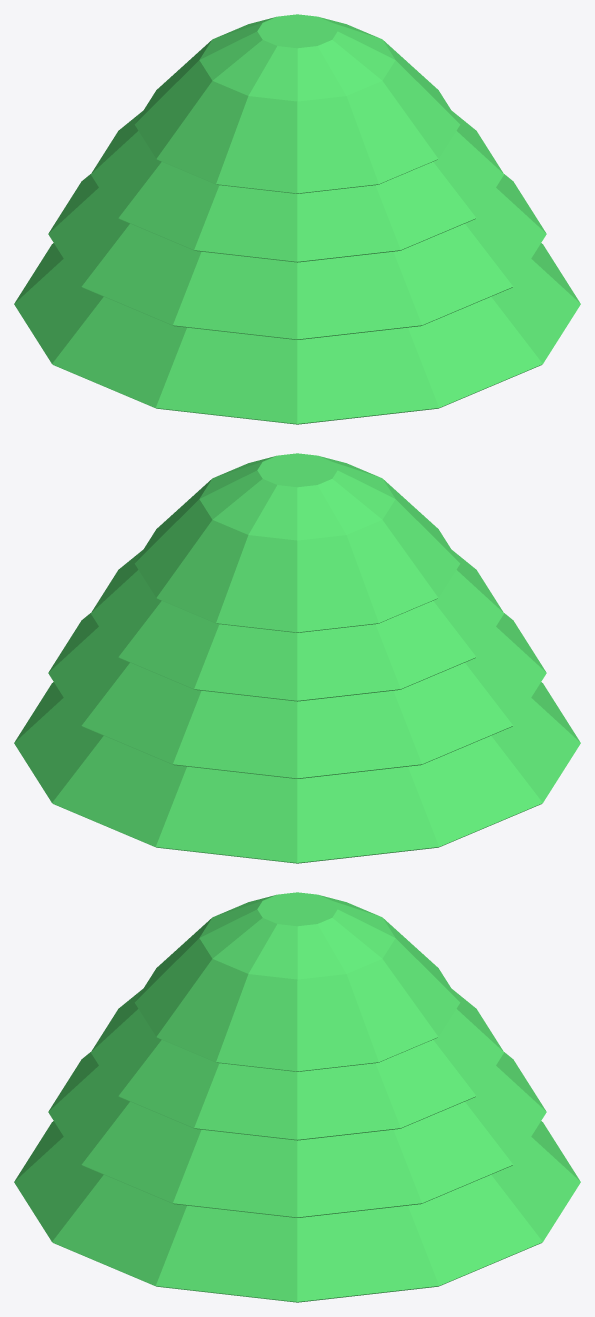
File: bush 1.fbx
The picture shows the model from 3 angles, top to bottom: view 1: azimuth 30°, elevation 25°; view 2: azimuth 150°, elevation 25°; view 3: azimuth 270°, elevation 25°; orthographic projection.
Parts seen in each view (by area): view 1: Circle.002; view 2: Circle.002; view 3: Circle.002.
Boxes of the visible parts, box(x1,y1,x2,y2) form: Circle.002: box(14, 14, 580, 424); Circle.002: box(14, 453, 580, 863); Circle.002: box(14, 892, 580, 1302).
Size of the model in its own units: 200 by 107 by 200.
